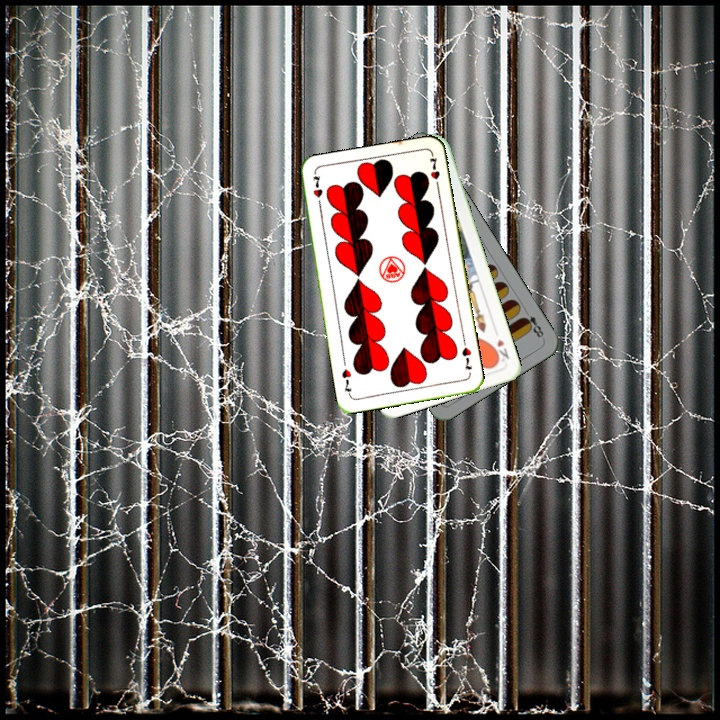E8: (518, 305, 547, 342)
H7: (458, 336, 475, 373), (309, 172, 325, 211)
HK: (489, 335, 512, 365)
